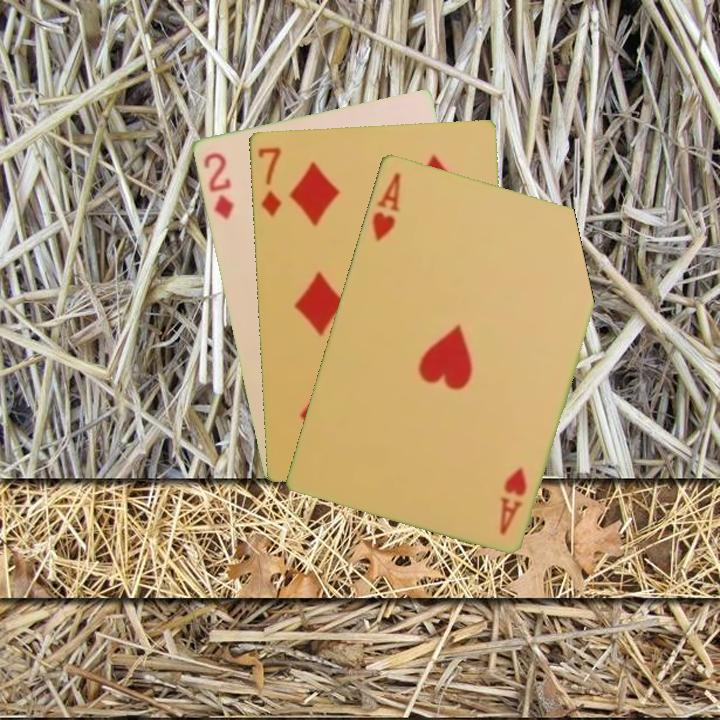2d: (199, 148, 236, 222)
7d: (254, 143, 284, 219)
Ah: (368, 168, 404, 244), (495, 462, 530, 537)
